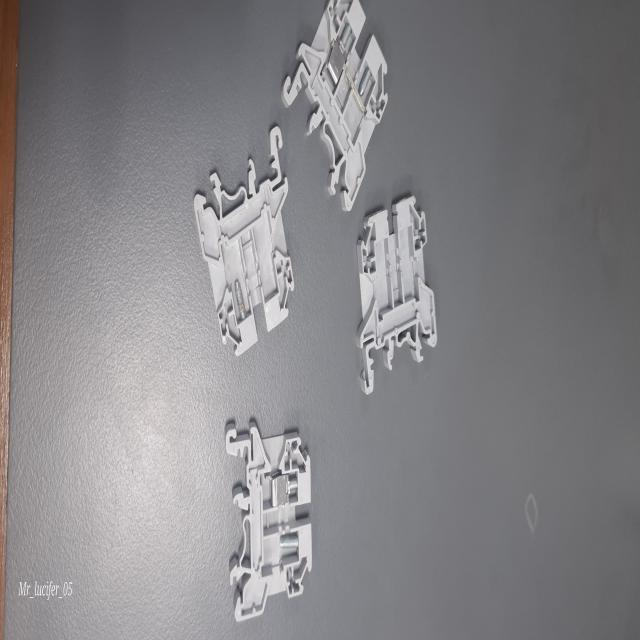Reject: (281, 0, 388, 220), (194, 123, 295, 349), (224, 416, 313, 624), (360, 190, 438, 394)
